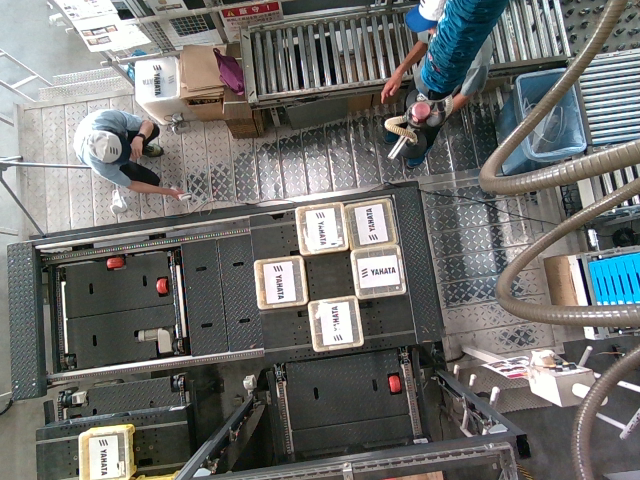box: (297, 203, 345, 253), (310, 297, 358, 347), (346, 198, 394, 248), (258, 257, 306, 307), (354, 247, 402, 297)
